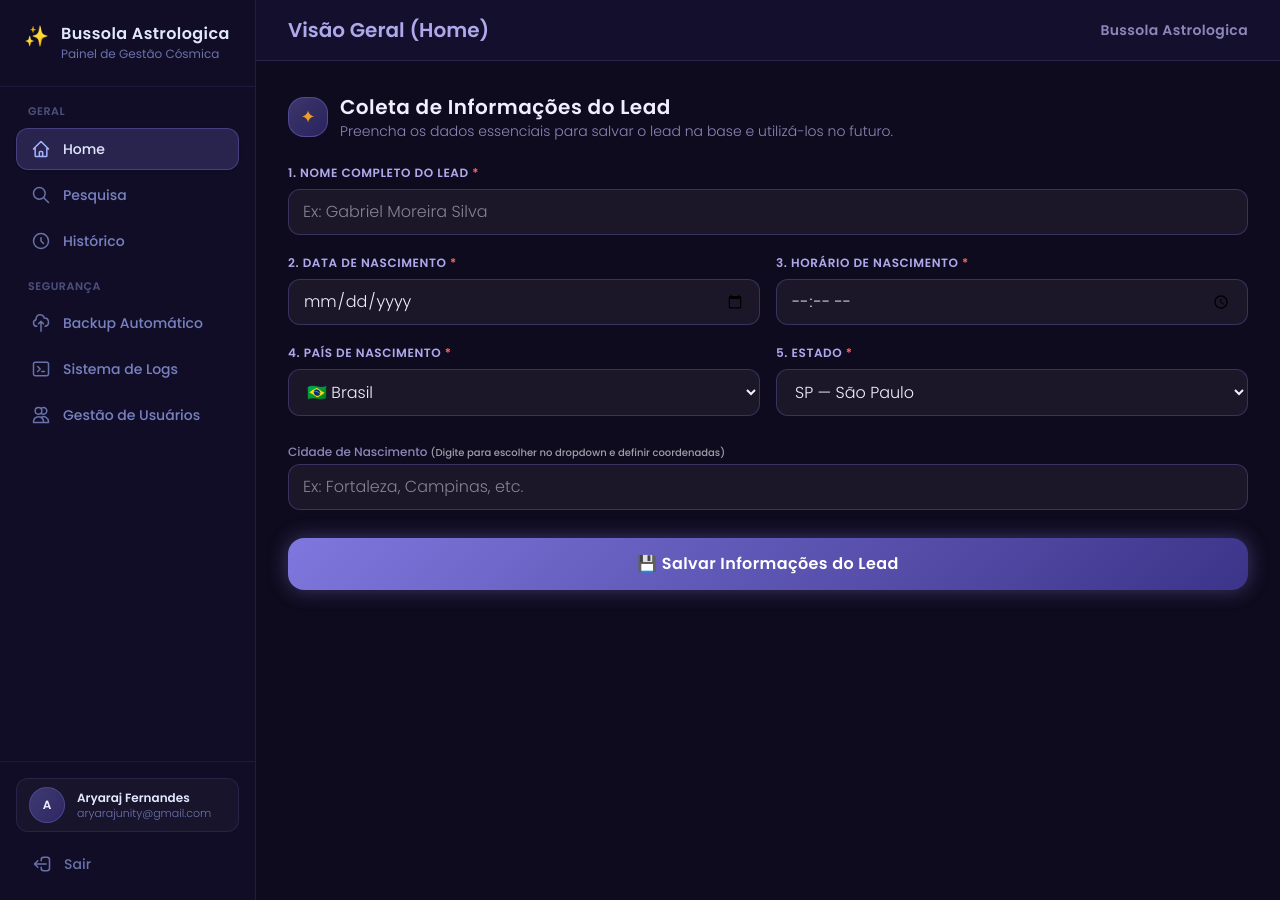
Test: AdminLayout Navegação e Painel › permite navegar para a aba Histórico ao clicar no botão da barra lateral
Click the button "Histórico": [128, 240] box top-left (16, 220), bottom-right (239, 262)
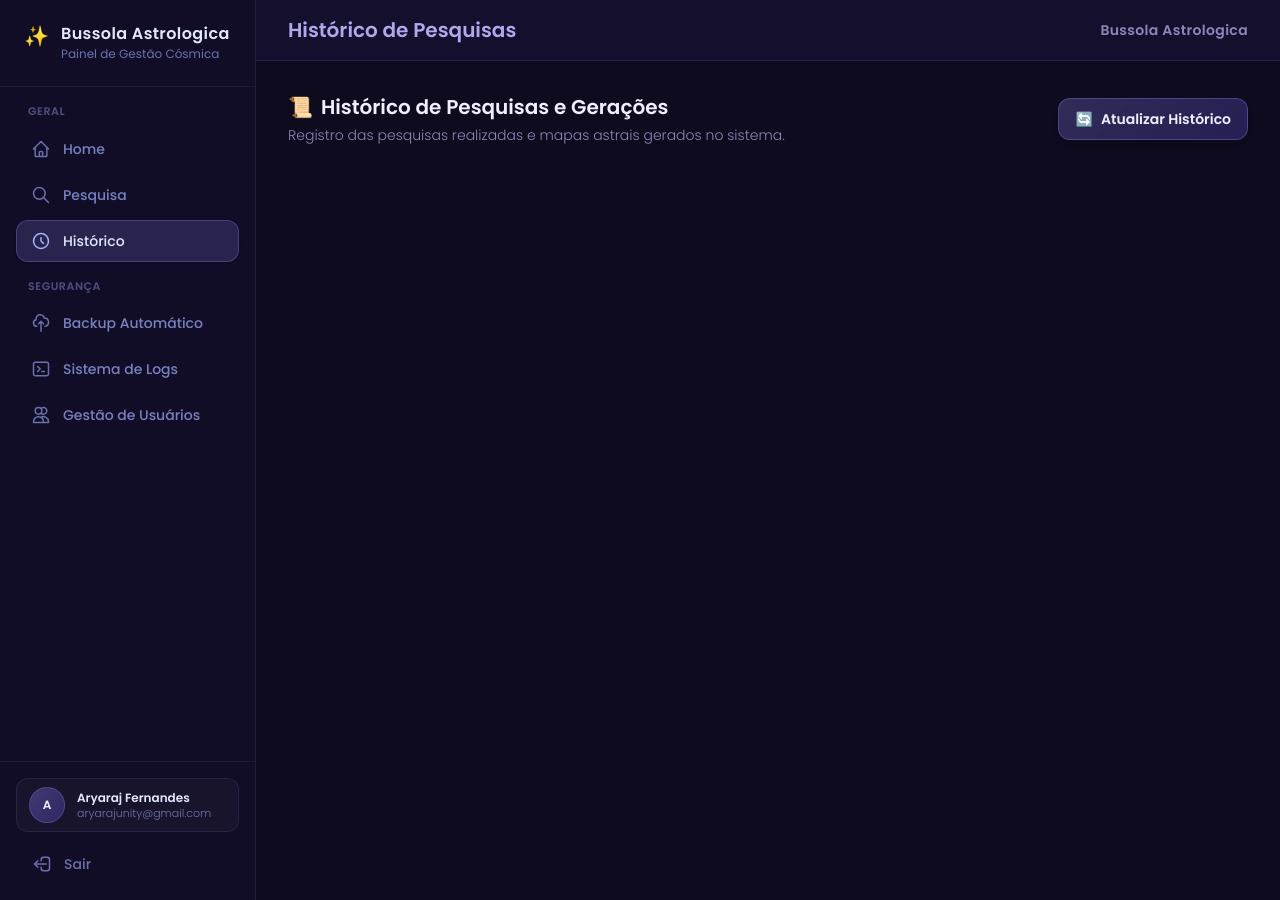
Now the heading "Histórico de Pesquisas" is shown, box top-left (288, 16), bottom-right (516, 44)
